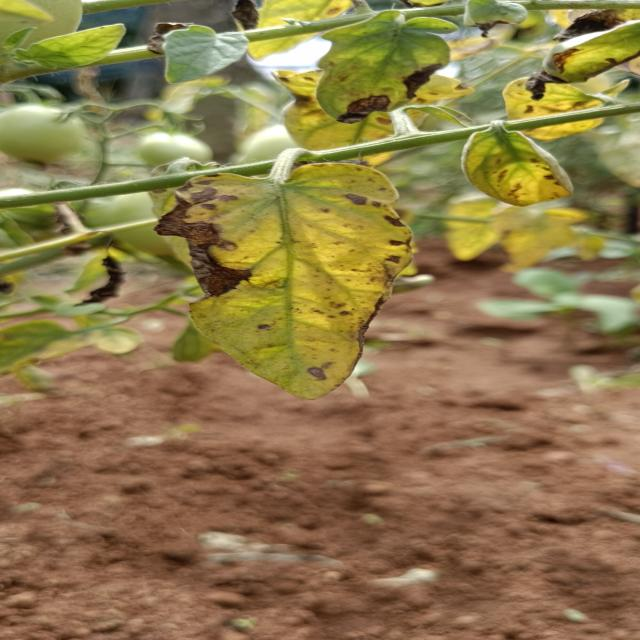tomato_early blight: (164, 168, 408, 398), (269, 58, 445, 168), (311, 13, 465, 120), (470, 124, 580, 208), (495, 78, 640, 138), (534, 19, 640, 92)
